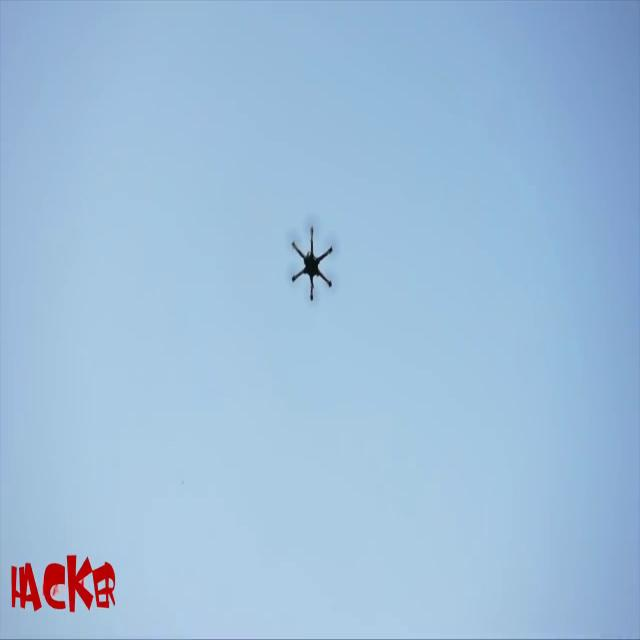drone: (283, 216, 341, 318)
